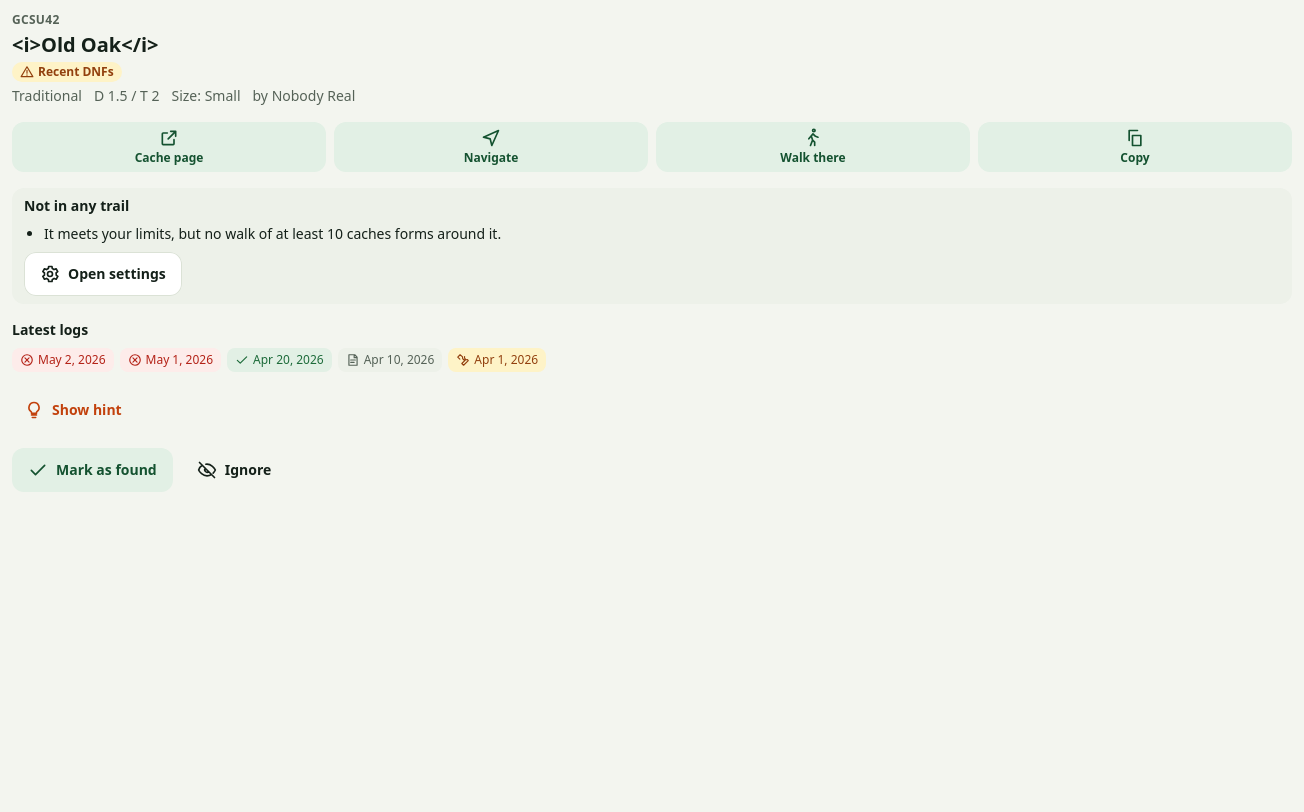
it: marking a cache › marks it found, confirms, and undoes from the toast
The image size is (1304, 812).
Click the button "Mark as found" at [92, 470], box [12, 448, 173, 492]
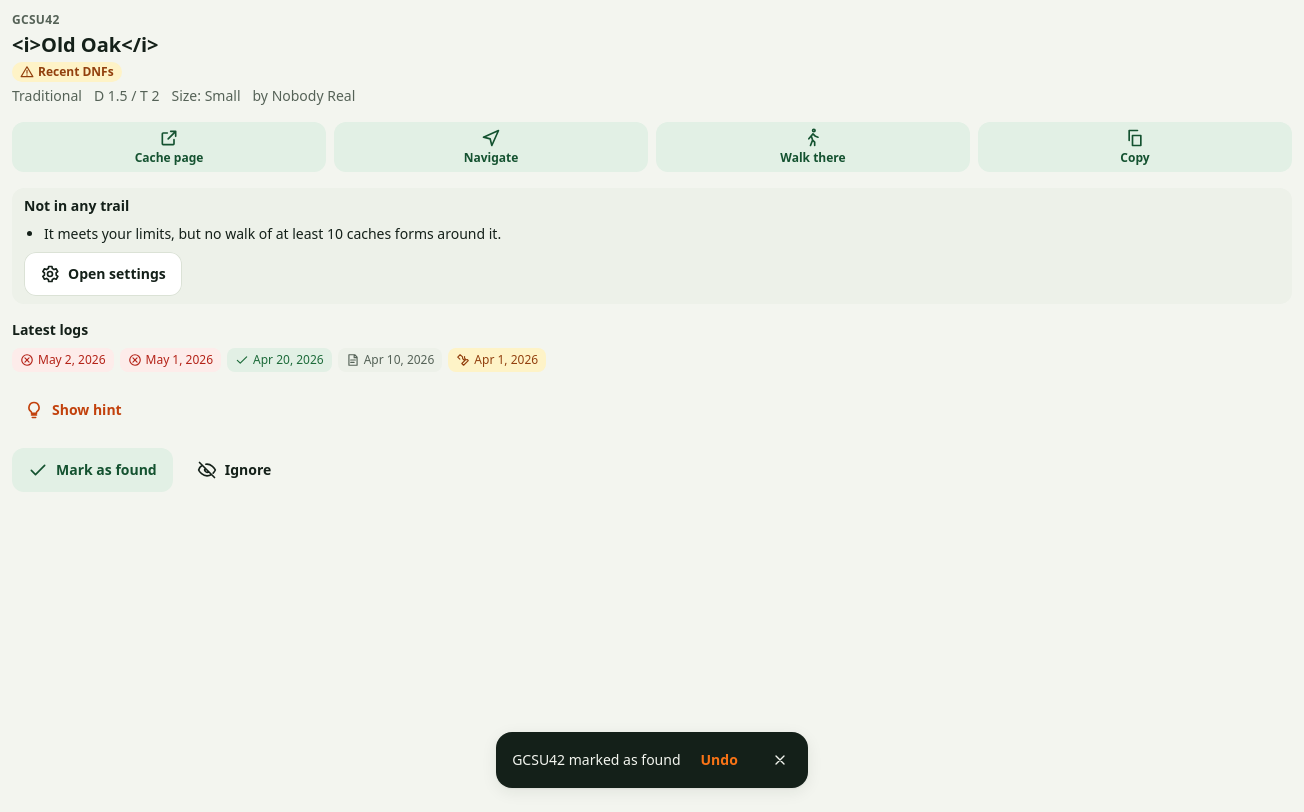
Result: the element with test id "toast" shows "GCSU42 marked as found" at [512, 750, 681, 769]
Click the button "Undo" at [719, 760], box [688, 738, 750, 782]
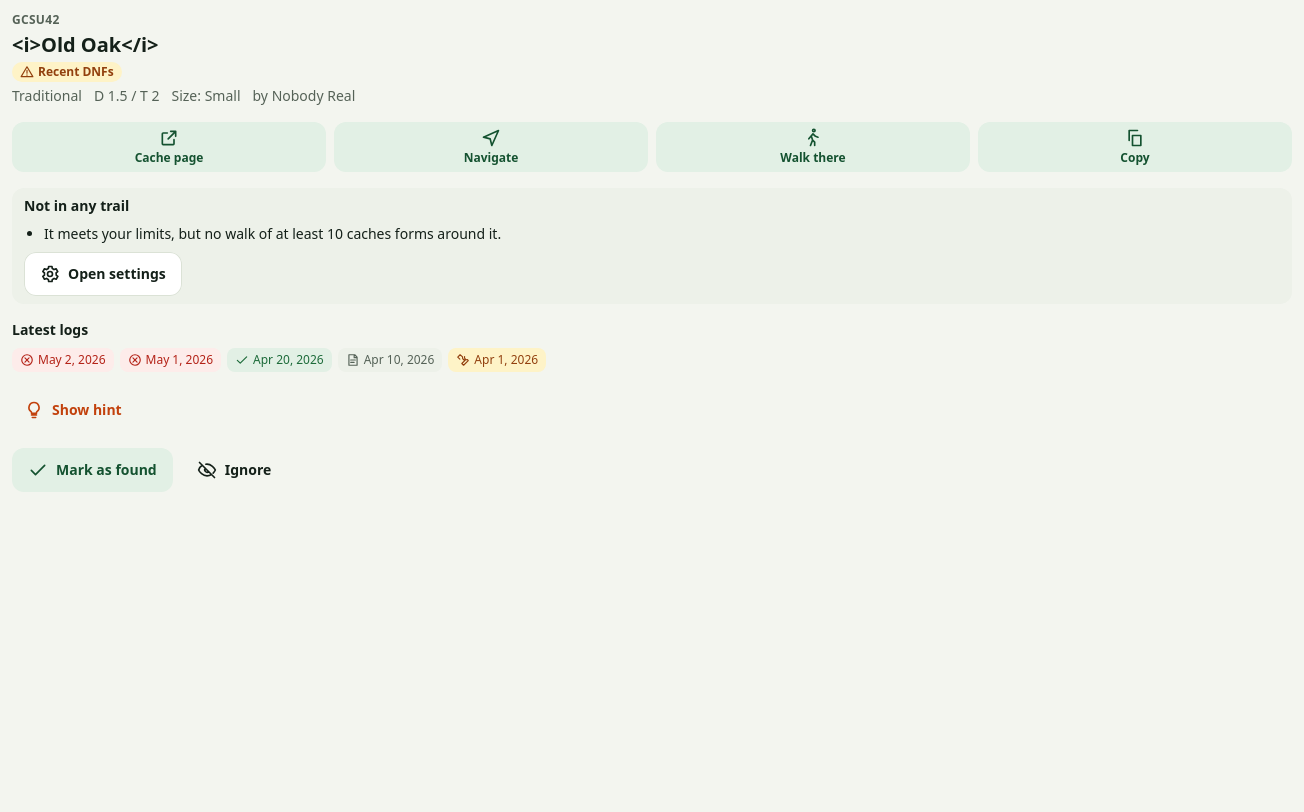
Result: the element with test id "toast" is gone
